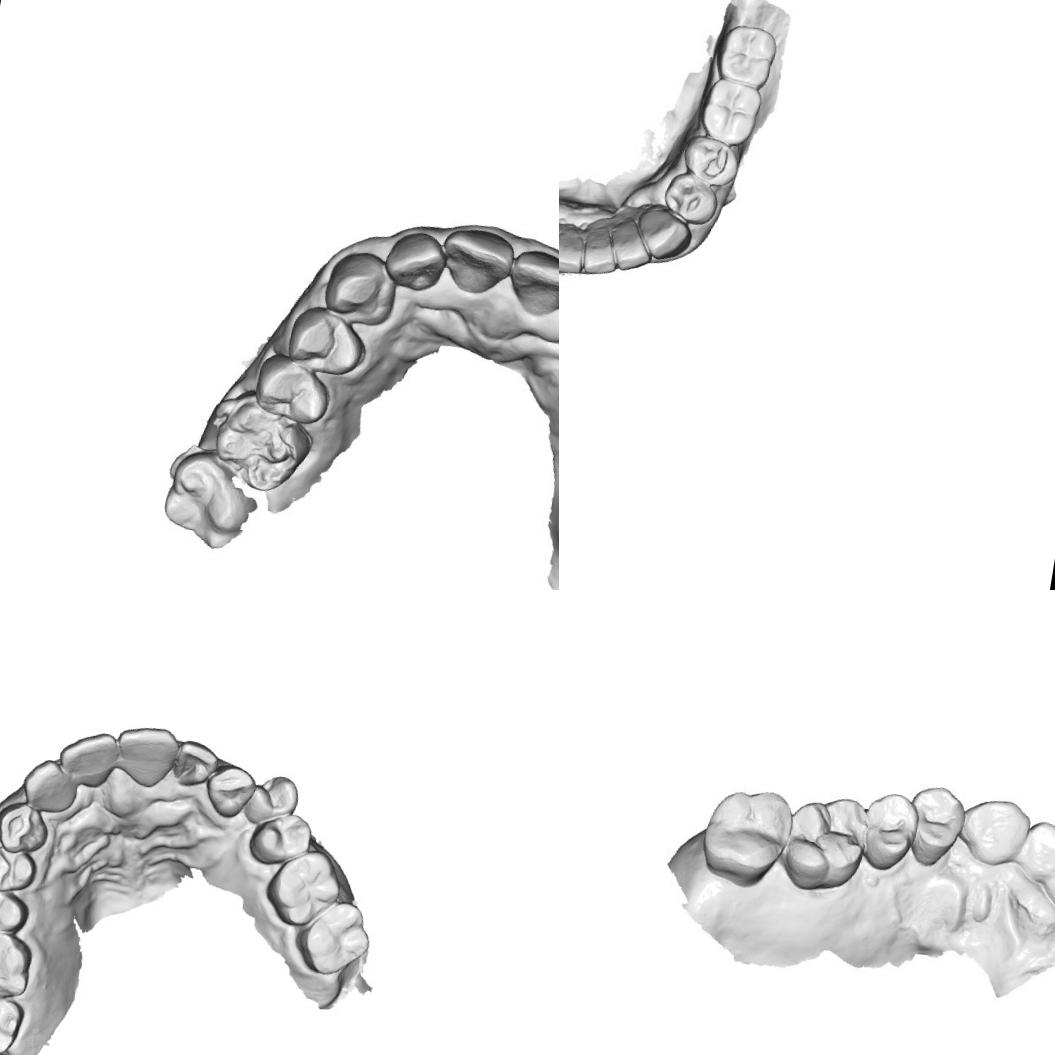canine: (956, 791, 1035, 872), (325, 250, 396, 326), (632, 202, 695, 266), (201, 759, 260, 823), (0, 797, 54, 859)
incisor: (440, 224, 518, 306), (109, 720, 181, 792), (505, 239, 559, 328), (52, 725, 120, 792), (17, 754, 81, 817), (386, 228, 447, 294), (1013, 816, 1055, 888), (170, 737, 222, 792), (606, 218, 656, 274), (579, 220, 622, 280), (559, 222, 592, 280)
molar: (694, 778, 799, 893), (776, 788, 877, 900), (209, 394, 314, 496), (160, 450, 252, 543), (260, 842, 348, 934), (290, 892, 378, 982), (710, 20, 780, 92), (696, 75, 764, 148), (0, 924, 37, 1002), (0, 986, 27, 1055)
premolar: (284, 305, 371, 380), (901, 780, 970, 872), (856, 788, 924, 877), (254, 354, 334, 424), (244, 806, 316, 873), (241, 769, 303, 831), (658, 168, 722, 228), (677, 134, 743, 190), (0, 841, 40, 897), (0, 886, 31, 936)
